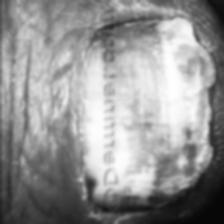Toxin: (74, 18, 220, 214)
